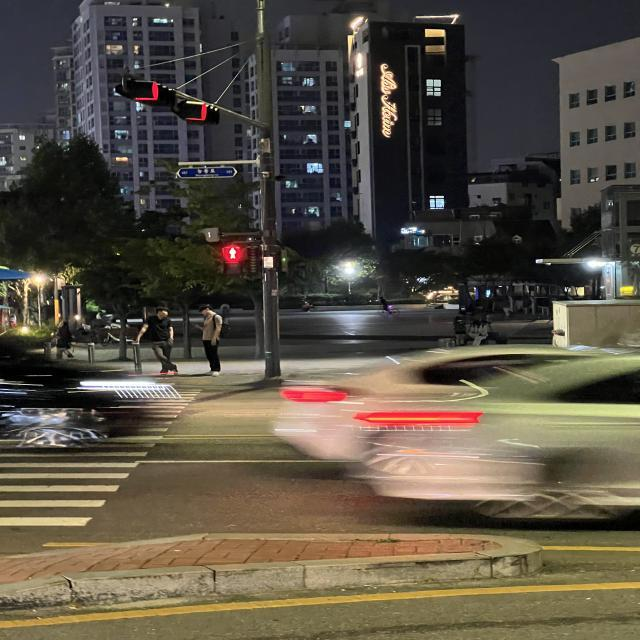crosswalk: (1, 366, 213, 545)
red-light: (219, 246, 267, 291)
